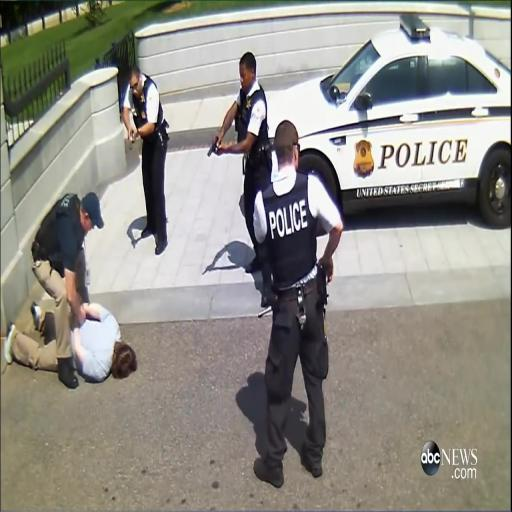Guns: (206, 136, 221, 158), (258, 303, 272, 317), (128, 126, 134, 148)
